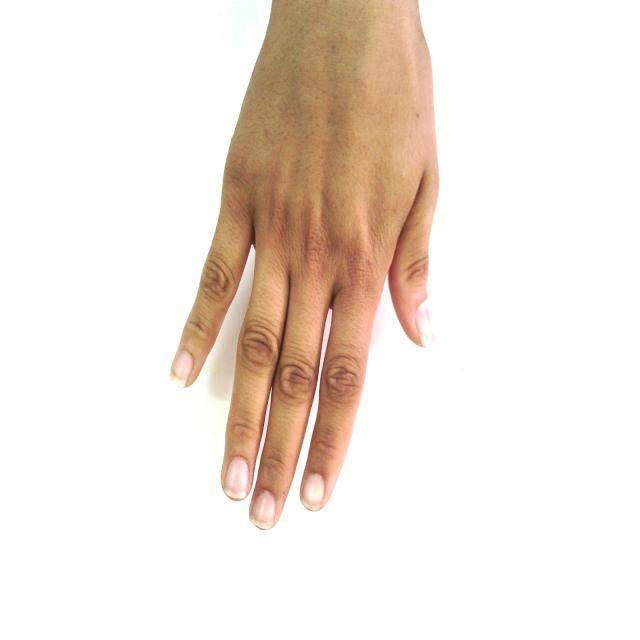Fingernail: (225, 458, 249, 498), (253, 492, 275, 528), (303, 474, 324, 510), (417, 305, 433, 345), (172, 352, 192, 381)
